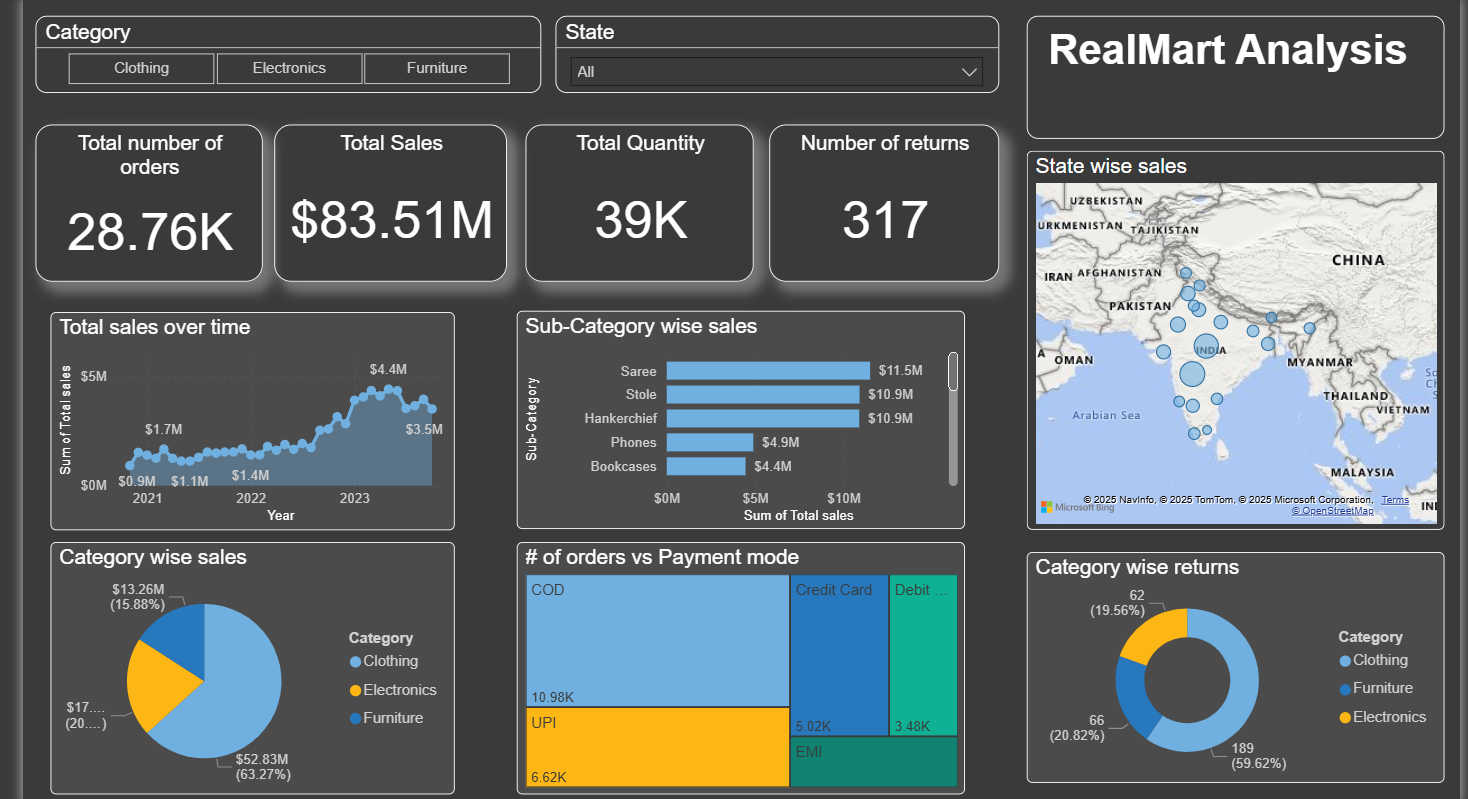

The page's visual inventory and layout, read from the dashboard file:
{"tool":"powerbi","page":{"name":"Page 1","canvas":[1280,720],"ordinal":0},"visuals":[{"type":"card","title":"Total  number of orders","fields":{"Values":["CountNonNull(Dataset.Order ID)"]},"box":[10.8,113.2,202.1,140.2],"z":0},{"type":"card","title":"Number of returns","fields":{"Values":["Sum(Dataset.Returns)"]},"box":[664.4,113.2,204.8,140.2],"z":1000},{"type":"card","title":"Total Sales","fields":{"Values":["Sum(Dataset.Total sales)"]},"box":[223.7,113.2,207.5,140.2],"z":2000},{"type":"card","title":"Total Quantity","fields":{"Values":["Sum(Dataset.Net quantity)"]},"box":[447.4,113.2,203.5,140.2],"z":3000},{"type":"areaChart","title":"Total sales over time","fields":{"Category":["Dataset.Date.Variation.Date Hierarchy.Year","Dataset.Date.Variation.Date Hierarchy.Month"],"Y":["Sum(Dataset.Total sales)"]},"box":[24.3,280.3,359.8,194.1],"z":4000},{"type":"pieChart","title":"Category wise sales","fields":{"Category":["Dataset.Category"],"Y":["Sum(Dataset.Total sales)"]},"box":[24.3,485.2,359.8,225.1],"z":5000},{"type":"clusteredBarChart","title":"Sub-Category wise sales","fields":{"Category":["Dataset.Sub-Category"],"Y":["Sum(Dataset.Total sales)"]},"box":[439.4,279.8,398.8,194.7],"z":6000},{"type":"treemap","title":"# of orders vs Payment mode","fields":{"Group":["Dataset.PaymentMode"],"Values":["CountNonNull(Dataset.Order ID)"]},"box":[439.4,485.3,398.8,224.4],"z":7000},{"type":"map","title":"State wise sales","fields":{"Category":["Dataset.State"],"Size":["Sum(Dataset.Total sales)"]},"box":[893.6,136.5,371.8,338],"z":8000},{"type":"textbox","box":[893.6,16.2,371.8,109.5],"z":9000},{"type":"slicer","title":"Category","fields":{"Values":["Dataset.Category"]},"box":[10.8,16.2,450.2,68.9],"z":10000},{"type":"slicer","title":"State","fields":{"Values":["Dataset.State"]},"box":[474.4,16.2,394.9,68.7],"z":11000},{"type":"donutChart","title":"Category wise returns","fields":{"Category":["Dataset.Category"],"Y":["Sum(Dataset.Returns)"]},"box":[893.6,494.8,371.8,205.5],"z":12000}]}

Visuals, with their boxes in screenshot pixels (x1, y1, x2, y2):
"Total  number of orders" card: detection(28, 121, 257, 280)
"Number of returns" card: detection(769, 121, 1001, 280)
"Total Sales" card: detection(269, 121, 505, 280)
"Total Quantity" card: detection(523, 121, 754, 280)
"Total sales over time" areaChart: detection(43, 310, 451, 531)
"Category wise sales" pieChart: detection(43, 543, 451, 798)
"Sub-Category wise sales" clusteredBarChart: detection(514, 310, 966, 531)
"# of orders vs Payment mode" treemap: detection(514, 543, 966, 798)
"State wise sales" map: detection(1029, 147, 1451, 531)
textbox: detection(1029, 11, 1451, 135)
"Category" slicer: detection(28, 11, 538, 89)
"State" slicer: detection(554, 11, 1002, 89)
"Category wise returns" donutChart: detection(1029, 554, 1451, 787)
